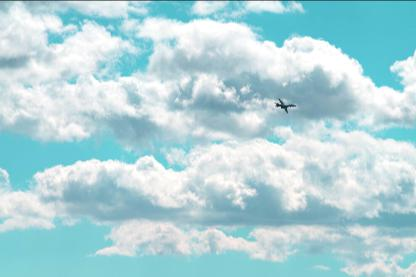AV8B: (274, 97, 296, 112)
